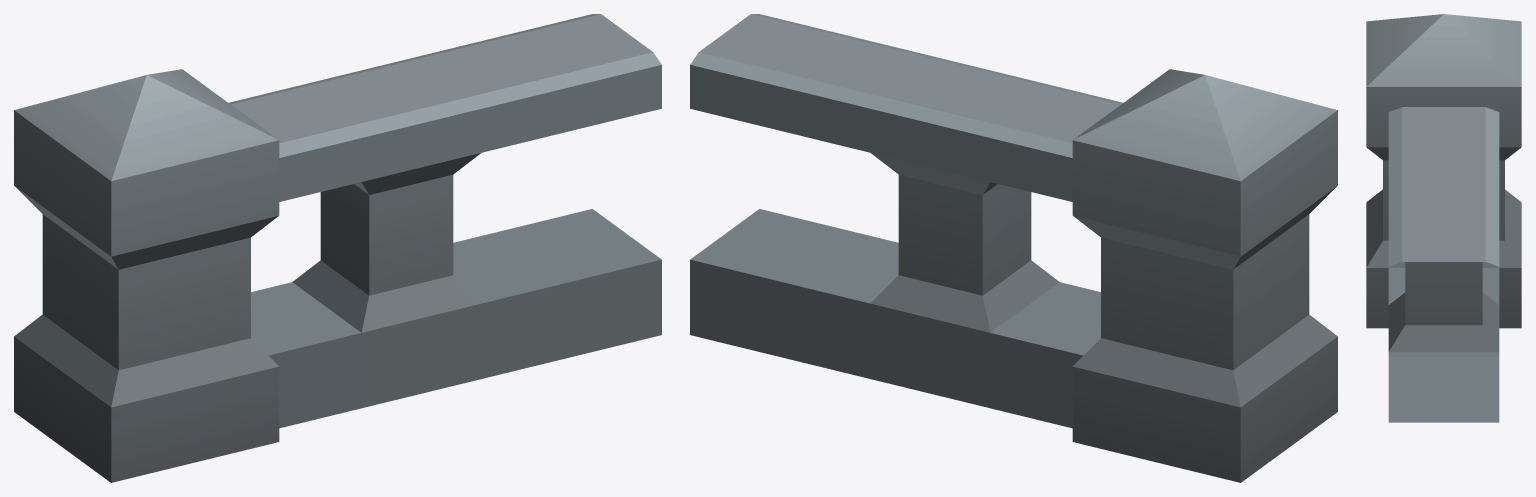
The model's file is barrier_colum_half.glb.
The picture shows the model from 3 angles, left to right: view 1: azimuth 30°, elevation 25°; view 2: azimuth 150°, elevation 25°; view 3: azimuth 270°, elevation 25°; orthographic projection. The views are drawn at different scales.
Visible parts, largest first — view 1: barrier_colum_half; view 2: barrier_colum_half; view 3: barrier_colum_half.
Boxes of the visible parts, bbox=[...] form: barrier_colum_half: bbox=[14, 14, 661, 482]; barrier_colum_half: bbox=[690, 14, 1337, 482]; barrier_colum_half: bbox=[1366, 14, 1521, 422].
Bounding box in the file's own units: 2.35 × 1.4 × 0.7.
Materials: 1 (1 with a texture image).
